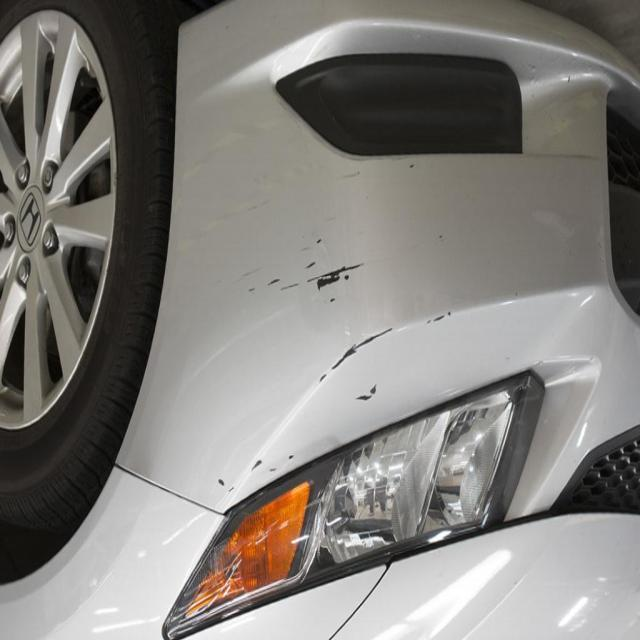scratch: (197, 241, 462, 447)
